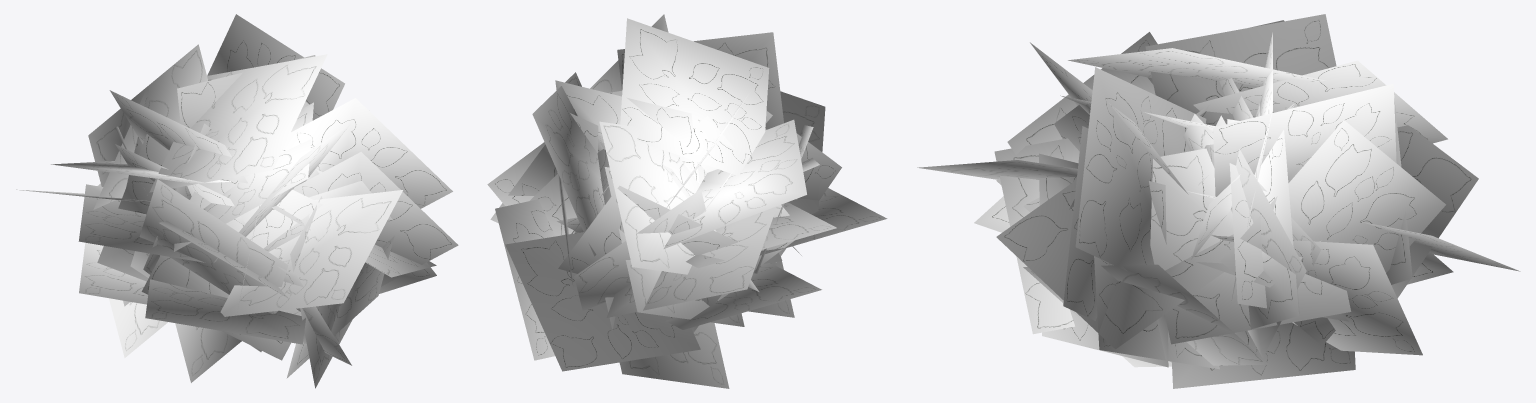
The model's file is Bush.fbx.
3 renders of one model, left to right at view 1: azimuth 30°, elevation 25°; view 2: azimuth 150°, elevation 25°; view 3: azimuth 270°, elevation 25°, orthographic. The views are drawn at different scales.
Visible parts, largest first — view 1: Bush; view 2: Bush; view 3: Bush.
Boxes of the visible parts, box(x1,y1,x2,y2) form: Bush: box(16, 14, 458, 388); Bush: box(487, 14, 887, 388); Bush: box(917, 14, 1520, 388).
Size of the model in its own units: 110 by 100 by 154.
Materials: 1 (1 with a texture image).
